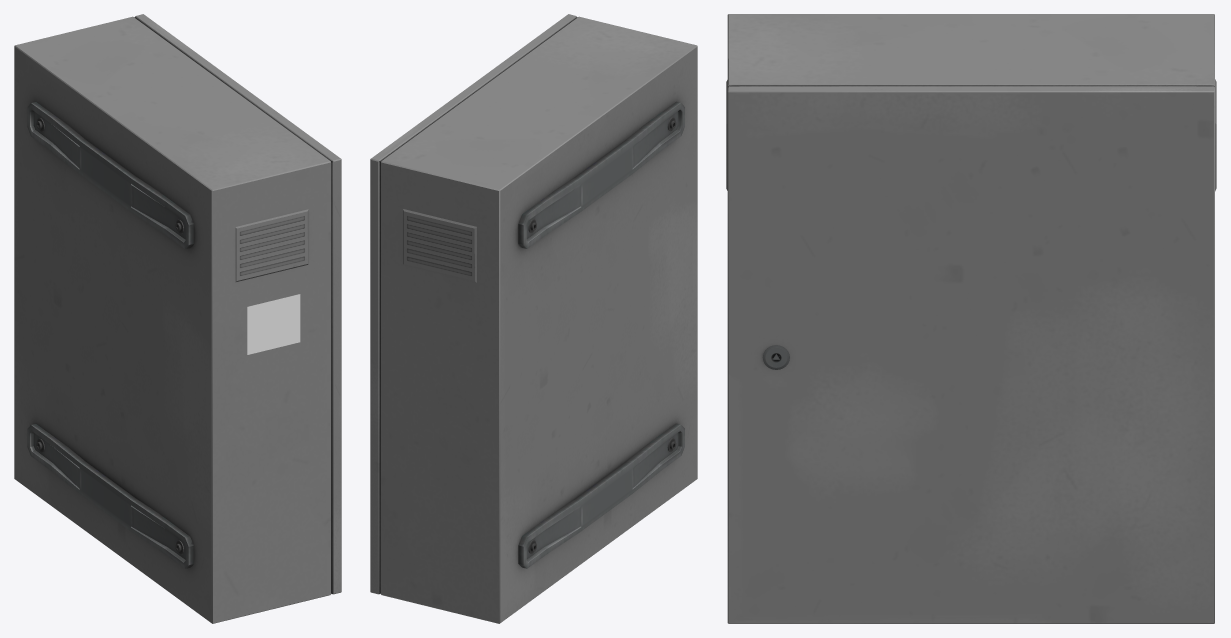
File: ElectricSwitchBoard.glb
The picture shows the model from 3 angles, left to right: view 1: azimuth 30°, elevation 25°; view 2: azimuth 150°, elevation 25°; view 3: azimuth 270°, elevation 25°; orthographic projection. The views are drawn at different scales.
Parts seen in each view (by area): view 1: ElectricSwitchBoard; view 2: ElectricSwitchBoard; view 3: ElectricSwitchBoard.
Boxes of the visible parts, bbox=[...] form: ElectricSwitchBoard: bbox=[14, 14, 341, 623]; ElectricSwitchBoard: bbox=[370, 14, 697, 623]; ElectricSwitchBoard: bbox=[726, 14, 1216, 623].
Size of the model in its own units: 0.2497 by 0.749 by 0.6241.
Materials: 2 (1 with a texture image).
